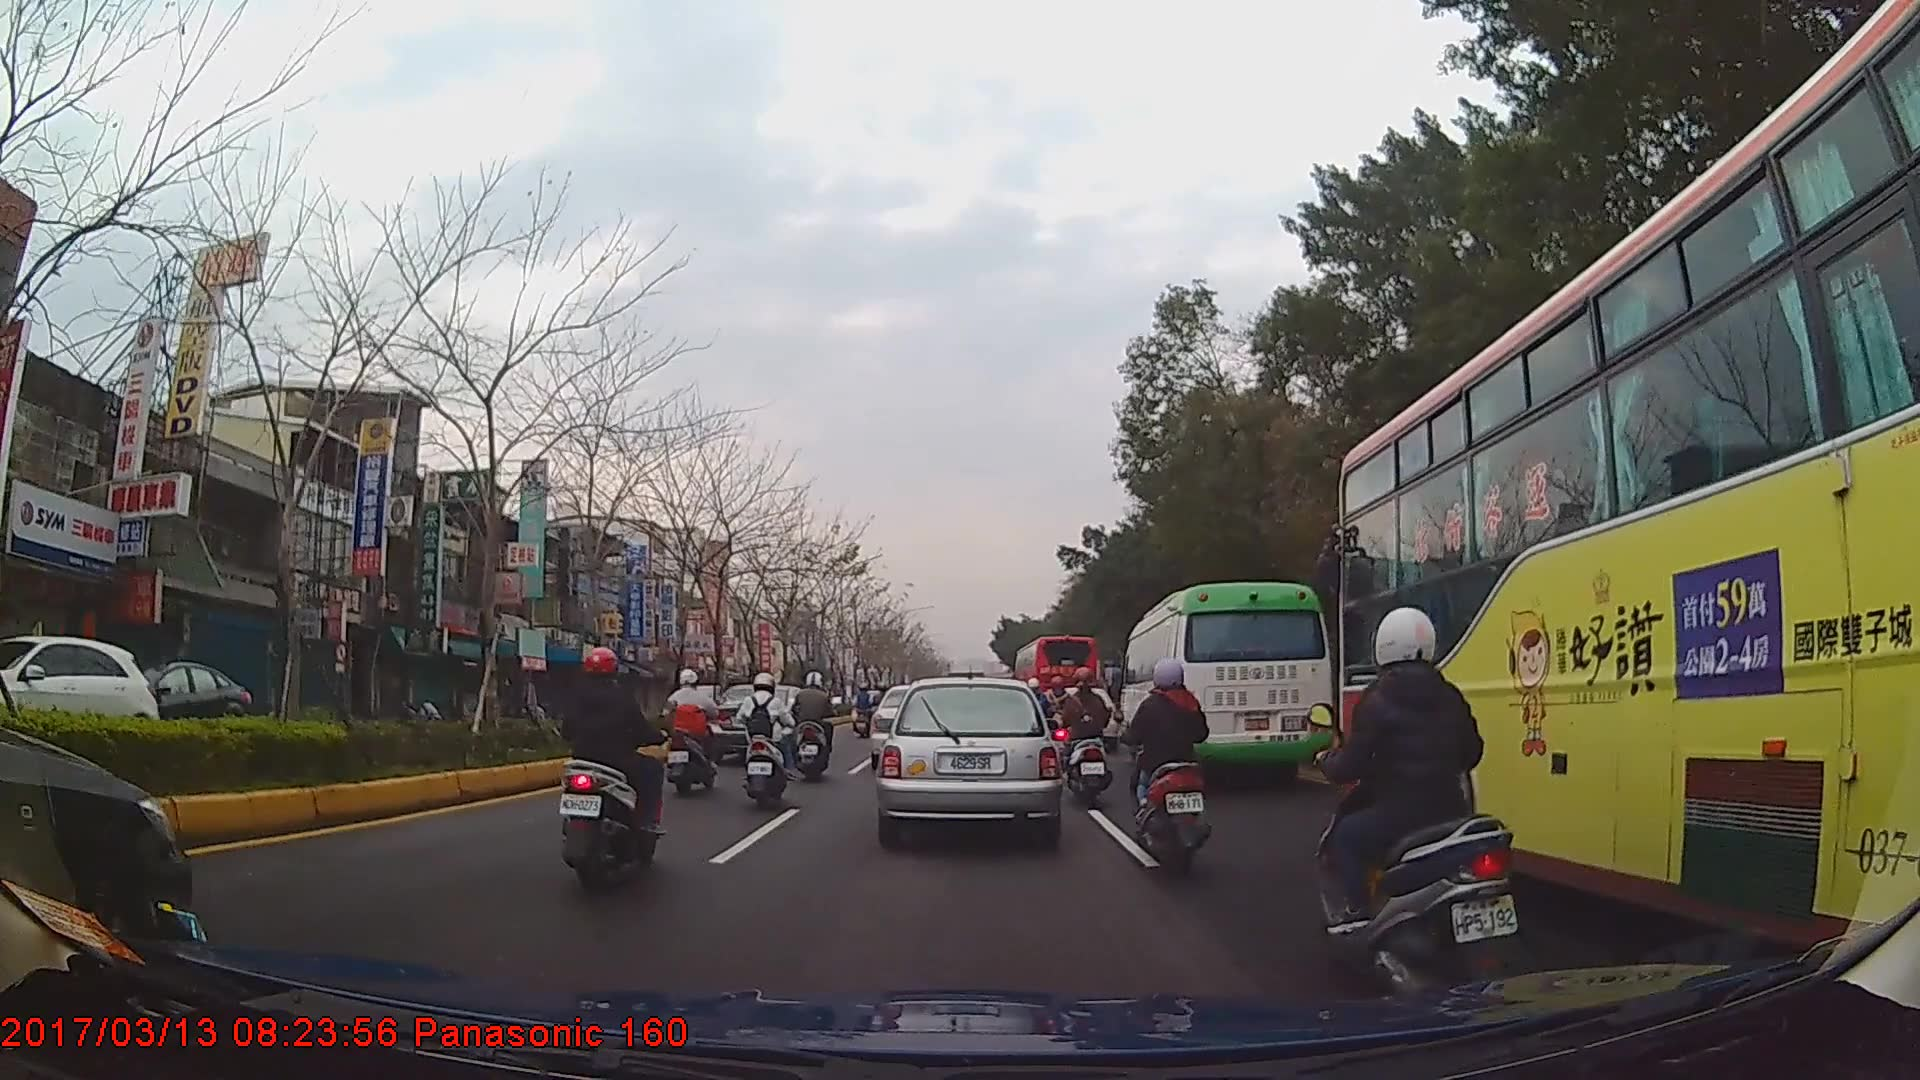rider: (1315, 605, 1528, 985), (554, 645, 663, 892), (1124, 654, 1216, 877), (662, 667, 722, 797), (737, 671, 794, 808), (1059, 666, 1110, 793), (792, 671, 836, 780), (854, 682, 876, 721)
vehicle: (1335, 0, 1920, 991), (1118, 581, 1332, 780), (878, 675, 1059, 842), (0, 631, 158, 764), (87, 656, 251, 734), (1014, 629, 1101, 735)
